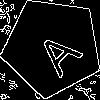A: (27, 22, 84, 79)
